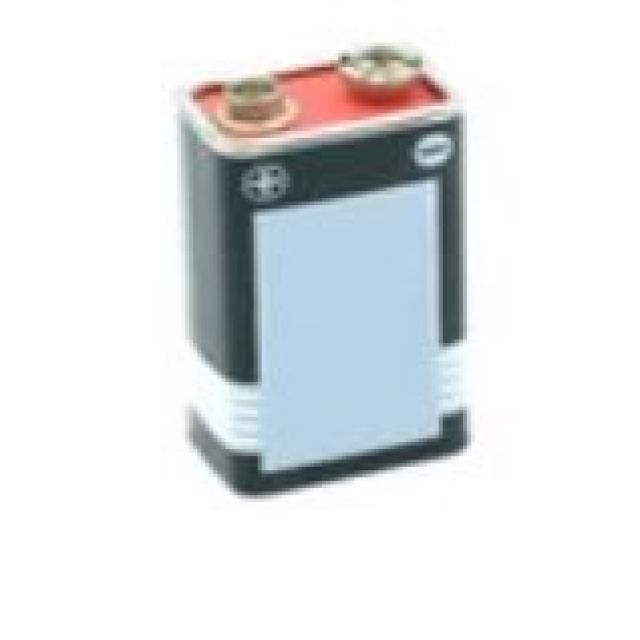electronic: (97, 21, 595, 616)
